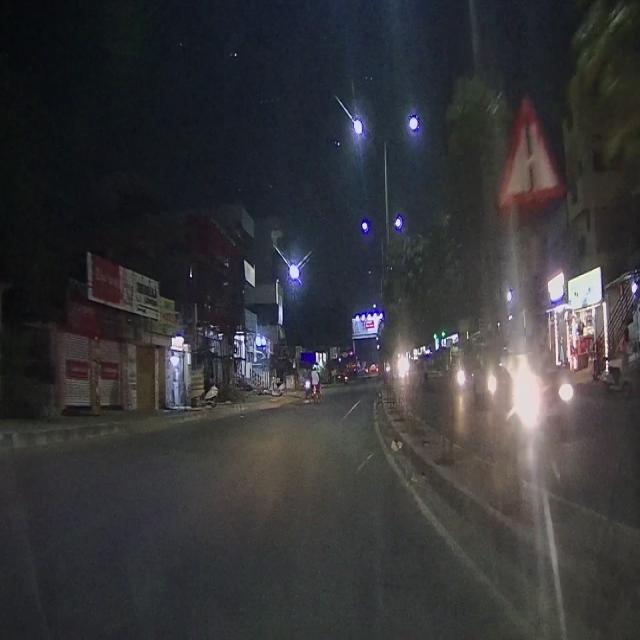gap-in-median: (500, 107, 559, 202)
